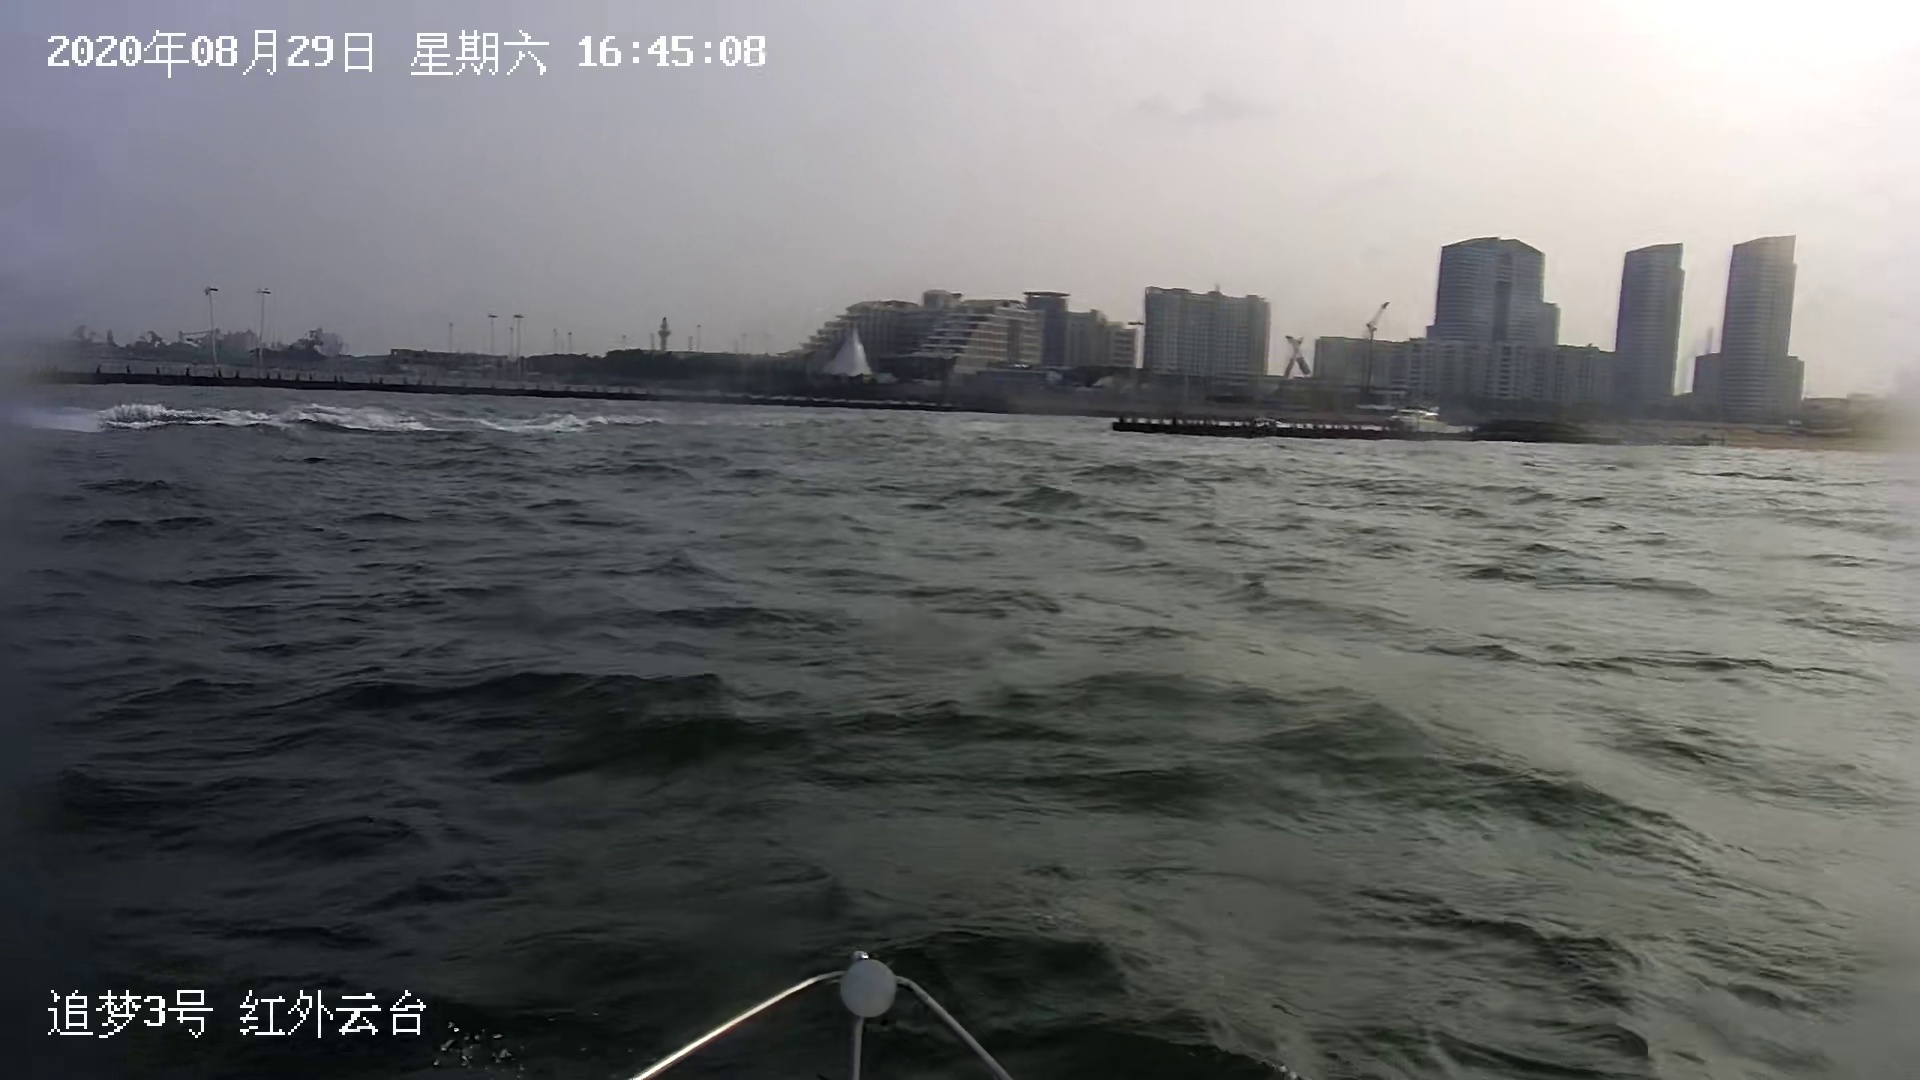coast: (3, 229, 1919, 451)
this: (624, 951, 1019, 1079)
